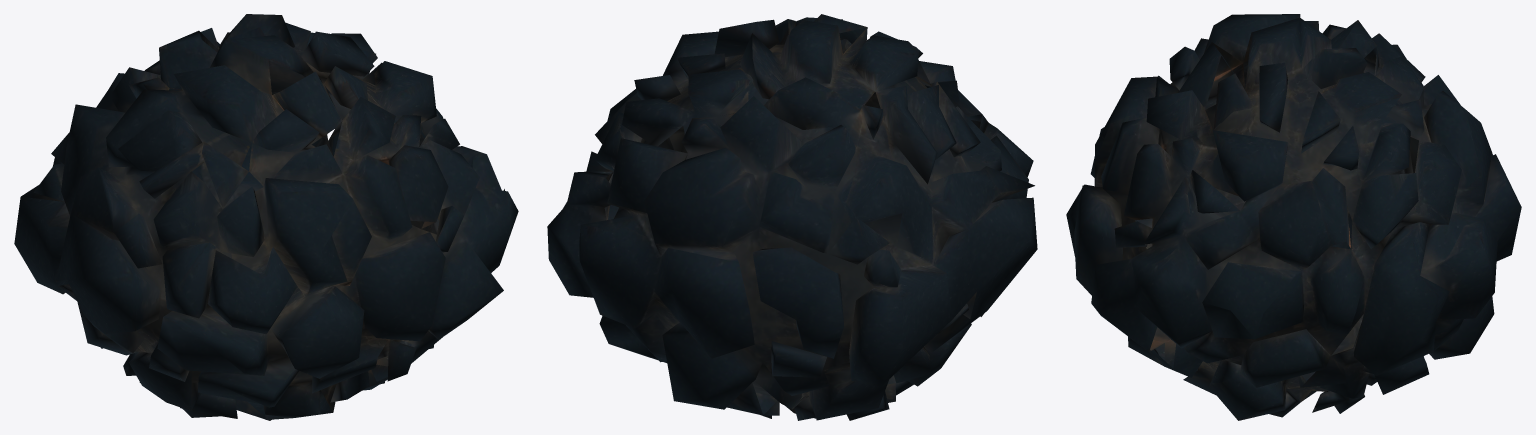
The model's file is magma_rock.glb.
3 views of the same model, side by side, from view 1: azimuth 30°, elevation 25°; view 2: azimuth 150°, elevation 25°; view 3: azimuth 270°, elevation 25° (orthographic). The views are drawn at different scales.
Bounding box in the file's own units: 1.89 × 1.62 × 1.85.
Materials: 1 (1 with a texture image).
